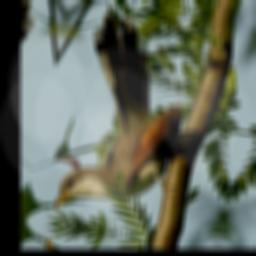Cuckoo: (53, 10, 207, 227)
